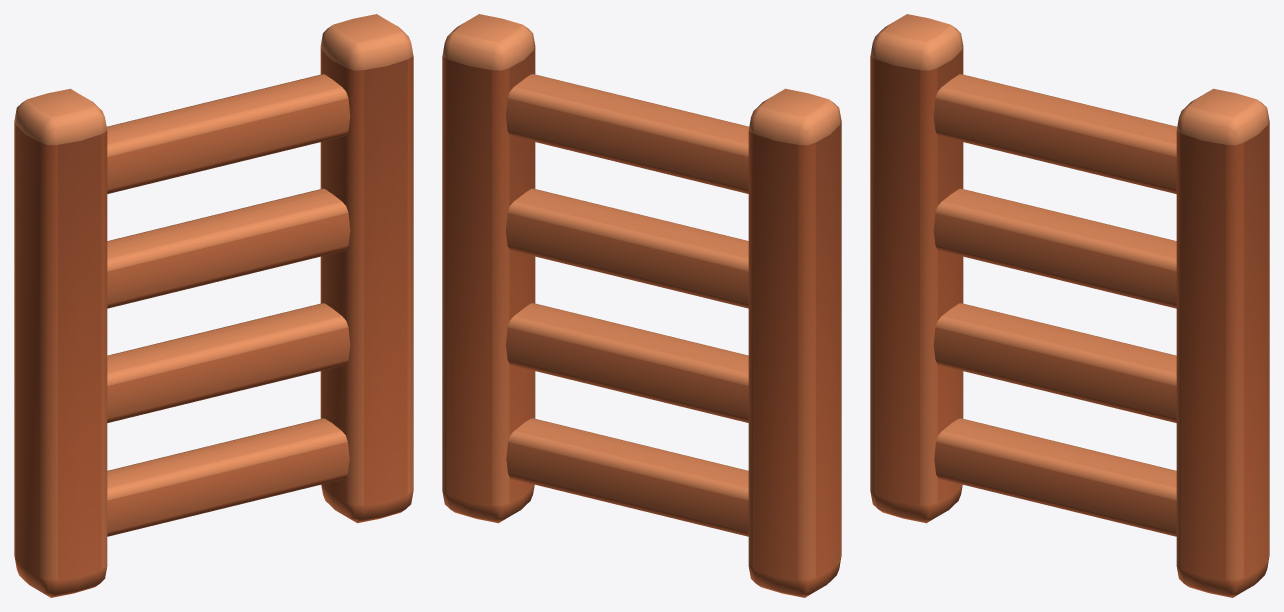
Rendered from Brass_Ladder.fbx.
3 renders of one model, left to right at view 1: azimuth 30°, elevation 25°; view 2: azimuth 150°, elevation 25°; view 3: azimuth 330°, elevation 25°, orthographic.
Visible parts, largest first — view 1: Brass_Ladder_LOD0; view 2: Brass_Ladder_LOD0; view 3: Brass_Ladder_LOD0.
Boxes of the visible parts, bbox=[...] form: Brass_Ladder_LOD0: bbox=[14, 14, 413, 597]; Brass_Ladder_LOD0: bbox=[442, 14, 841, 597]; Brass_Ladder_LOD0: bbox=[870, 14, 1269, 597].
Size of what is drawn, in the model's own units: 0.8613 by 1.05 by 0.1617.
